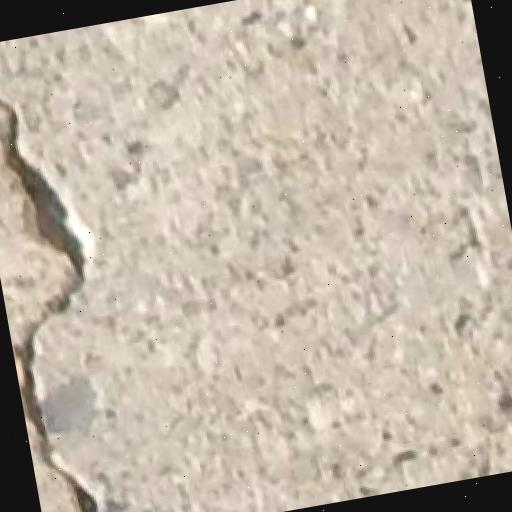spalling: (0, 81, 108, 512)
